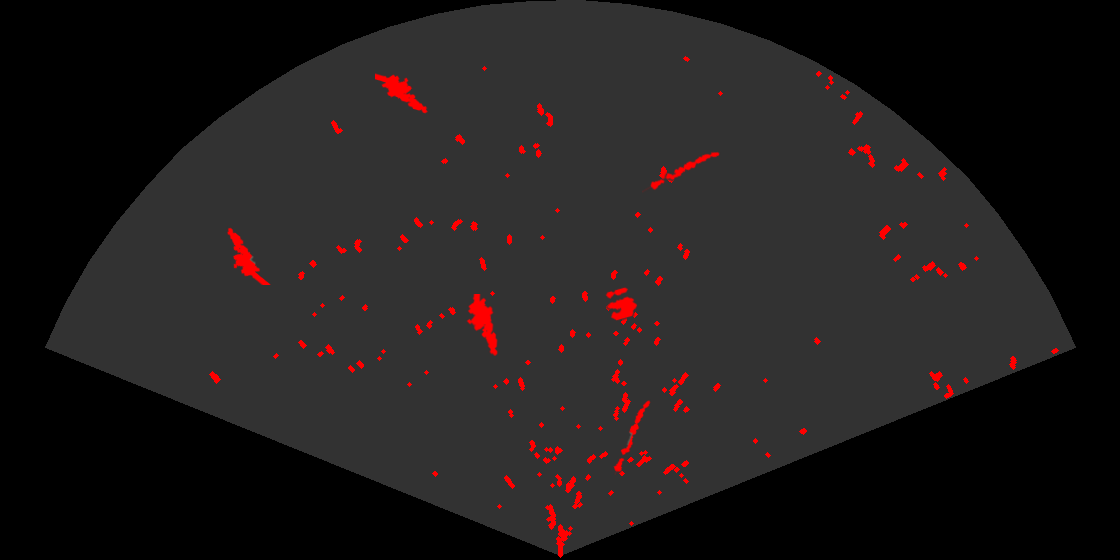ball: (604, 286, 639, 322)
chain: (642, 150, 721, 194), (612, 399, 652, 475)
frogman: (226, 226, 272, 285), (375, 72, 430, 115), (465, 294, 499, 356)
